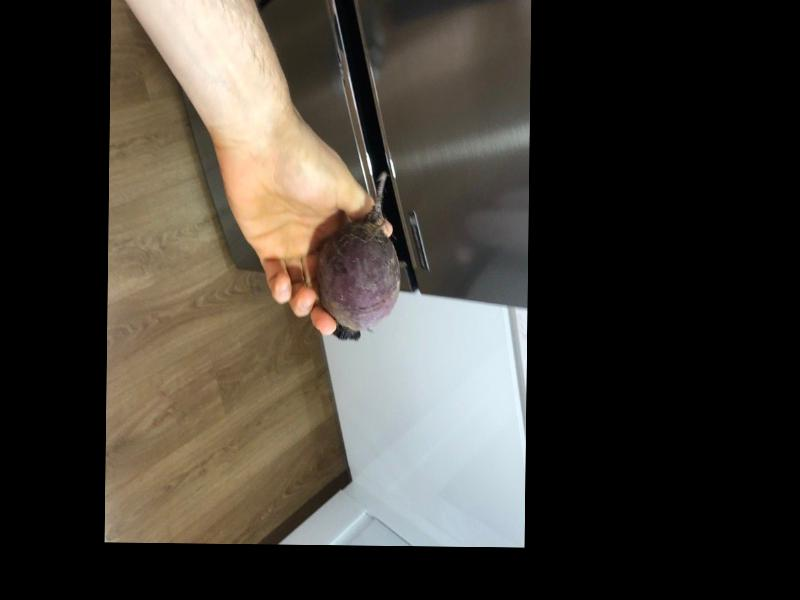Beet: (318, 173, 400, 342)
